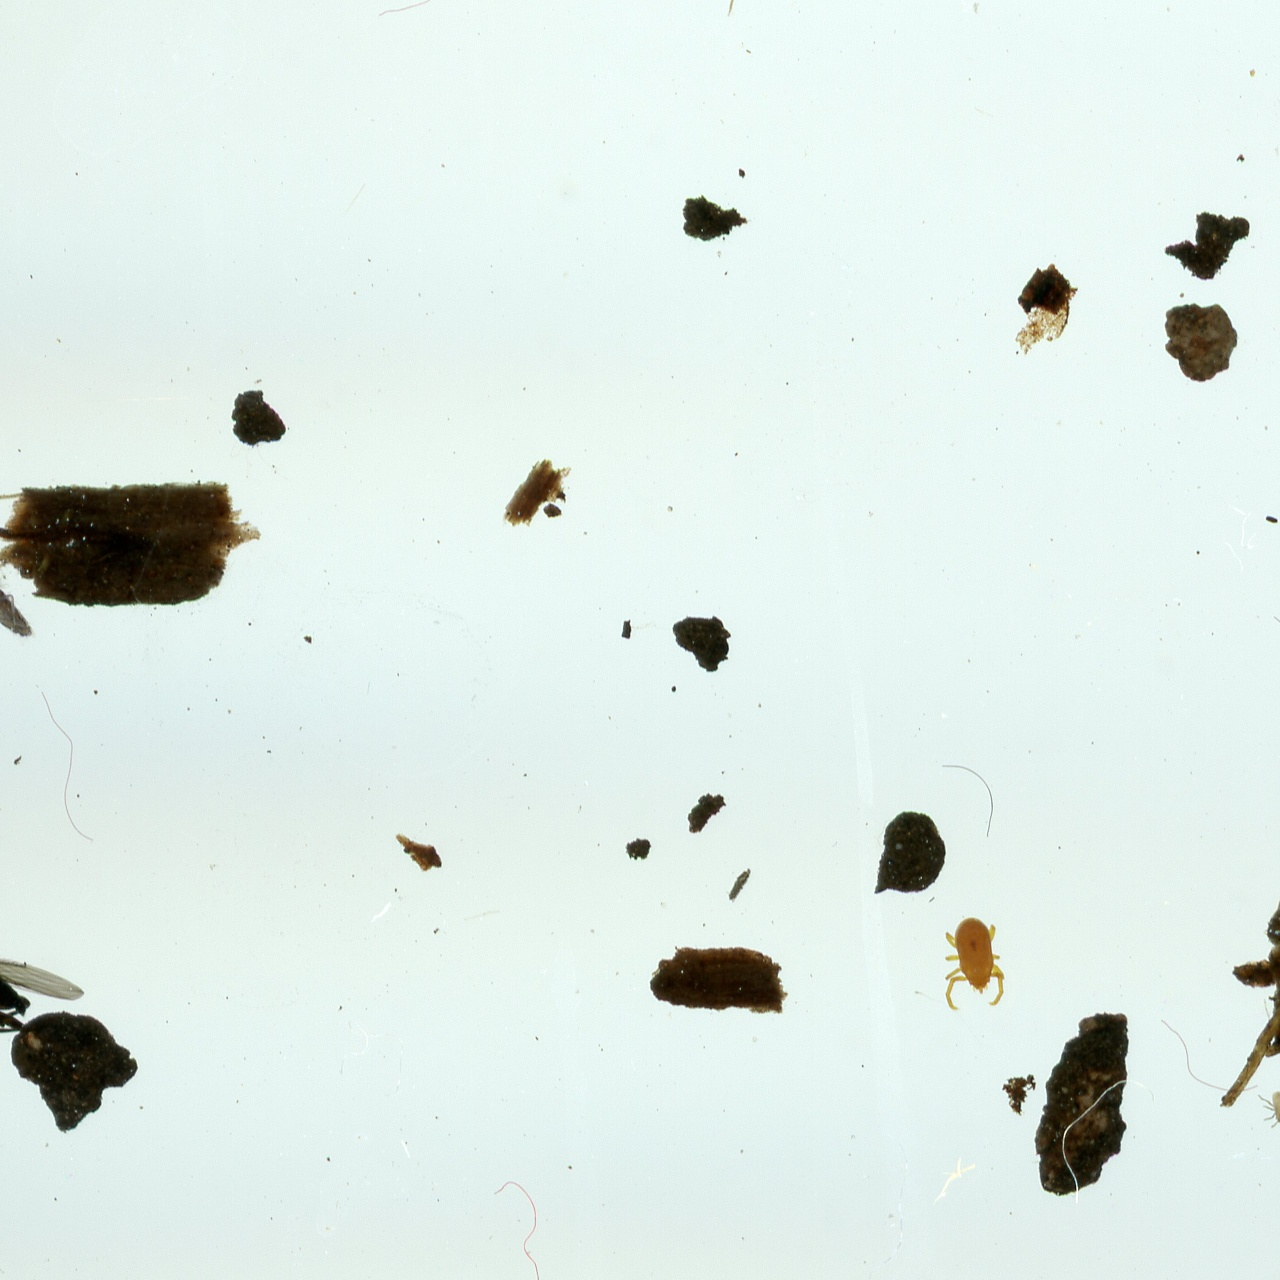arthropod: (0, 942, 86, 1048), (939, 911, 1008, 1015), (0, 571, 39, 641), (1255, 1089, 1280, 1131)
